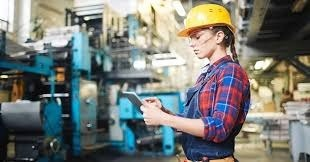helmet: (172, 2, 241, 40)
person: (171, 3, 253, 162)
